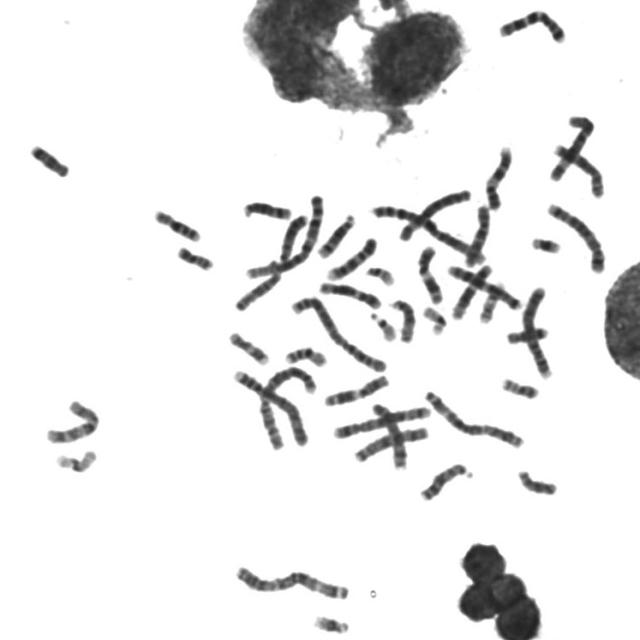A1: (366, 200, 489, 265), (242, 190, 327, 281)
A2: (286, 291, 389, 374), (255, 360, 320, 450)
A3: (419, 385, 527, 450), (230, 560, 352, 602)
B4: (228, 366, 312, 448), (518, 282, 556, 380)
B5: (542, 198, 608, 276), (329, 402, 434, 440)
C10: (40, 395, 102, 446), (460, 200, 493, 268)
C11: (319, 370, 392, 408), (413, 241, 445, 306)
C12: (447, 260, 495, 321), (313, 277, 384, 311)
C6: (394, 185, 474, 242), (545, 110, 597, 183)
C7: (443, 260, 523, 311), (493, 4, 569, 44)
C8: (549, 138, 608, 200), (368, 397, 412, 475)
C9: (322, 233, 380, 282), (480, 141, 516, 211)
D13: (265, 210, 309, 267), (416, 460, 474, 503)
D14: (313, 209, 358, 260), (238, 196, 294, 221)
D15: (230, 265, 284, 313), (385, 294, 417, 344)
E16: (149, 204, 203, 243), (281, 342, 329, 368)
E17: (224, 327, 272, 367), (475, 277, 508, 324)
E18: (25, 139, 72, 179), (503, 322, 550, 346)
F19: (50, 444, 100, 474), (418, 302, 449, 336)
F20: (172, 242, 216, 272), (497, 373, 541, 401)
G21: (309, 610, 352, 635), (527, 232, 564, 256)
G22: (365, 308, 399, 343), (362, 262, 397, 287)
X: (350, 422, 431, 465)
Y: (513, 466, 560, 496)
